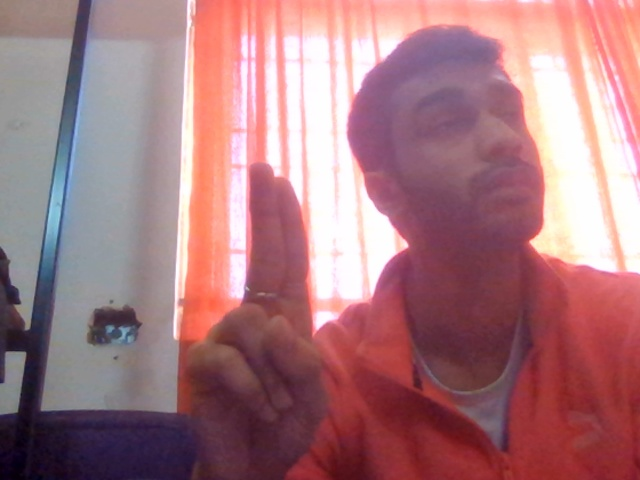U: (158, 138, 354, 480)
